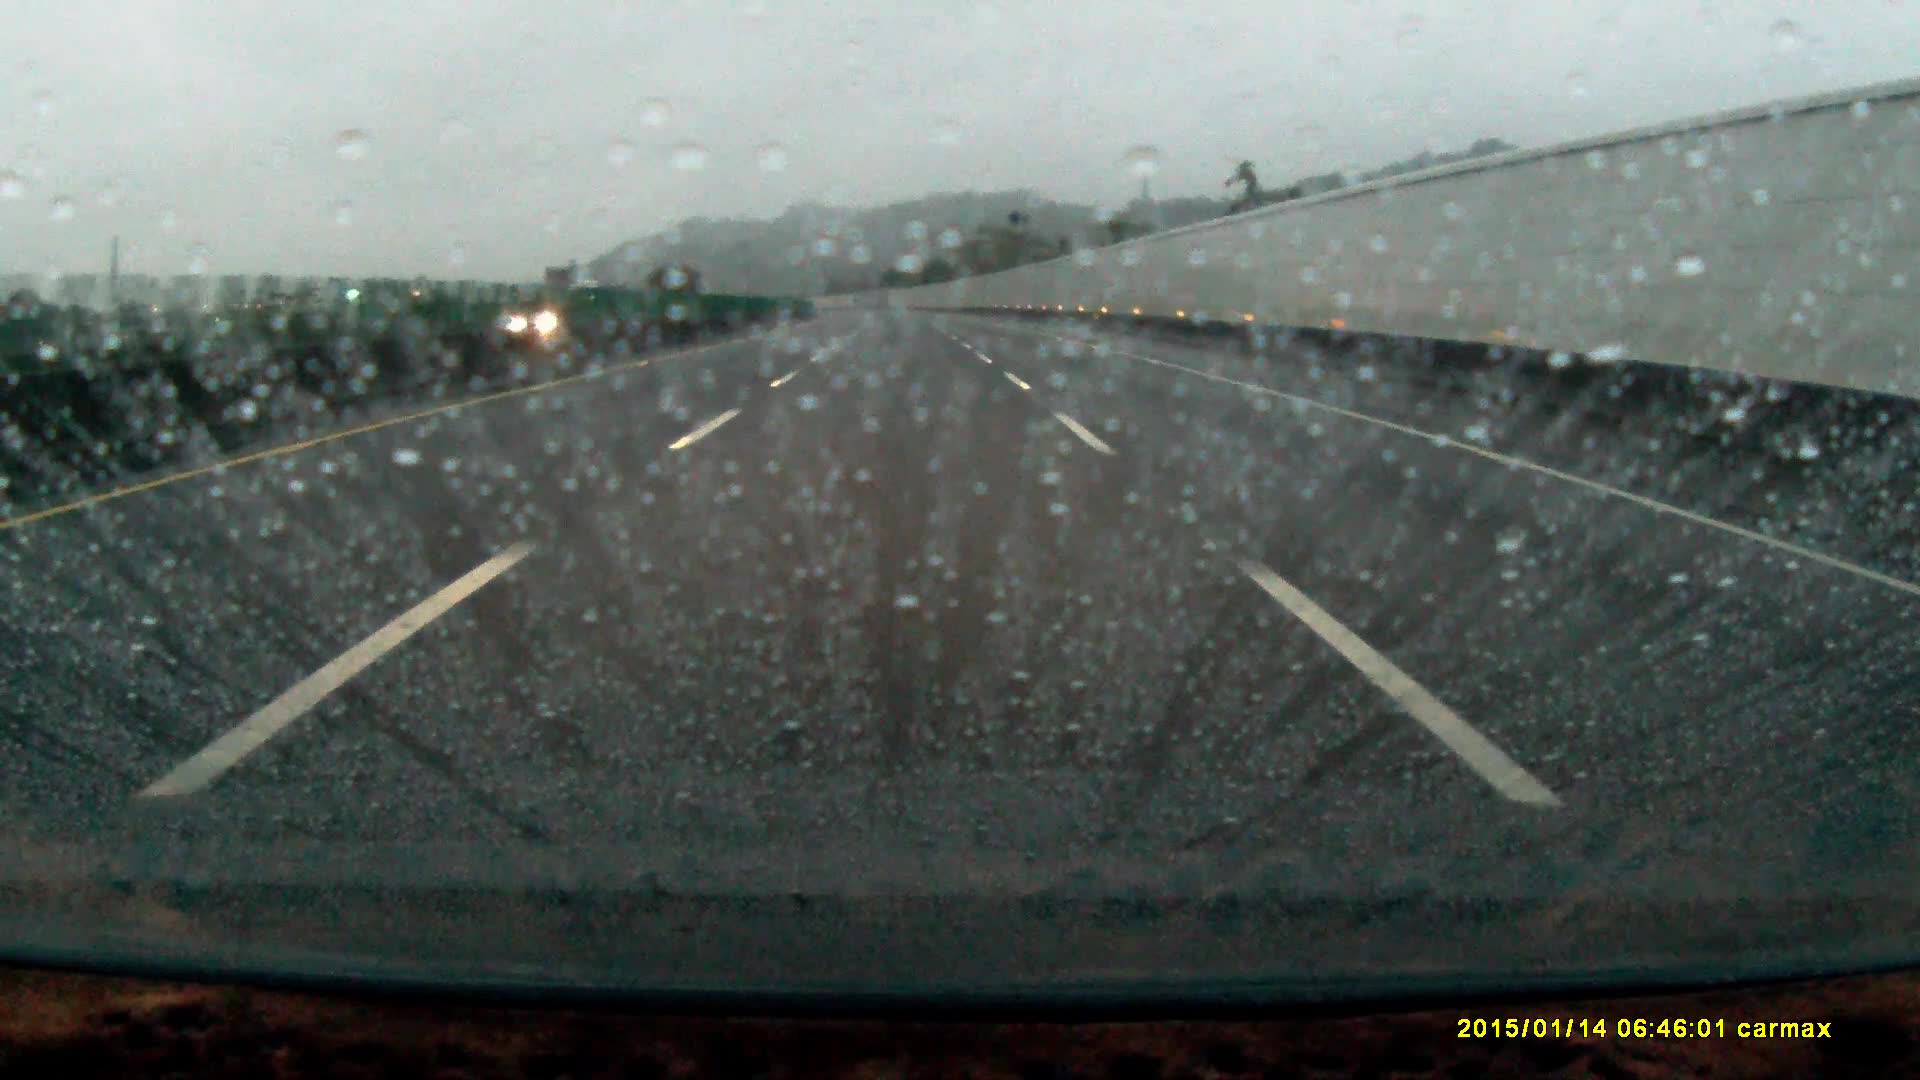vehicle: (502, 302, 582, 336)
